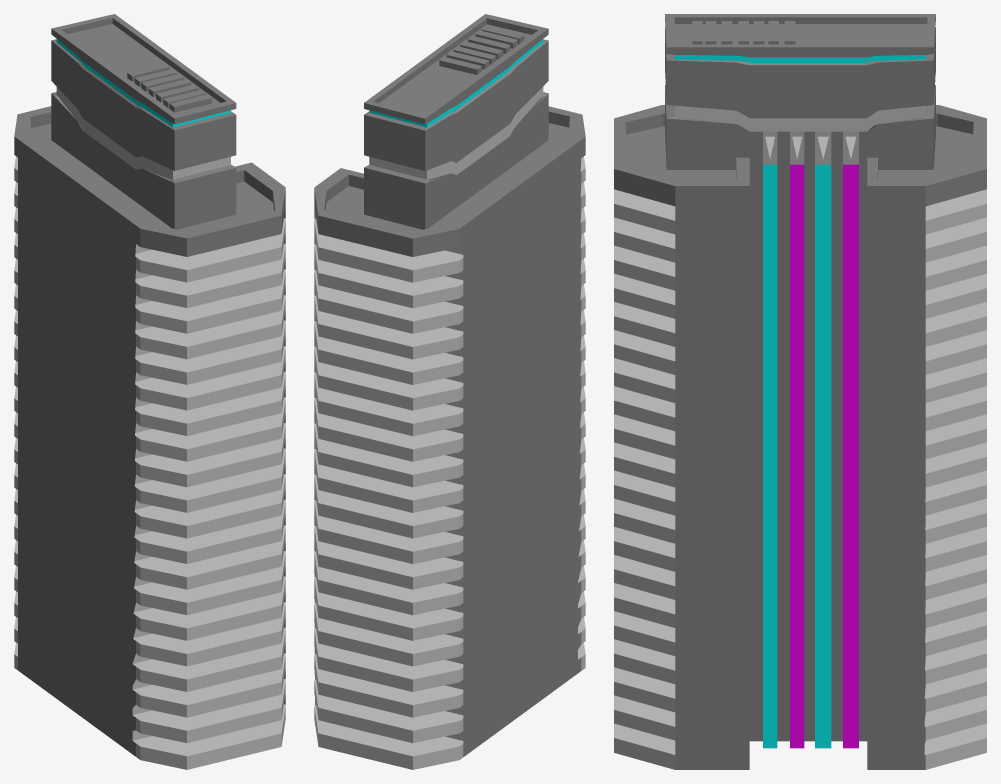
The model's file is SM_Buildning_03.fbx.
3 views of the same model, side by side, from view 1: azimuth 30°, elevation 25°; view 2: azimuth 150°, elevation 25°; view 3: azimuth 270°, elevation 25° (orthographic). The views are drawn at different scales.
Visible parts, largest first — view 1: polySurface5; view 2: polySurface5; view 3: polySurface5.
Boxes of the visible parts, x1,y1,x2,y2 form: polySurface5: [14, 14, 285, 769]; polySurface5: [314, 14, 585, 769]; polySurface5: [614, 14, 986, 769].
Bounding box in the file's own units: 30.96 × 123 × 60.09.
